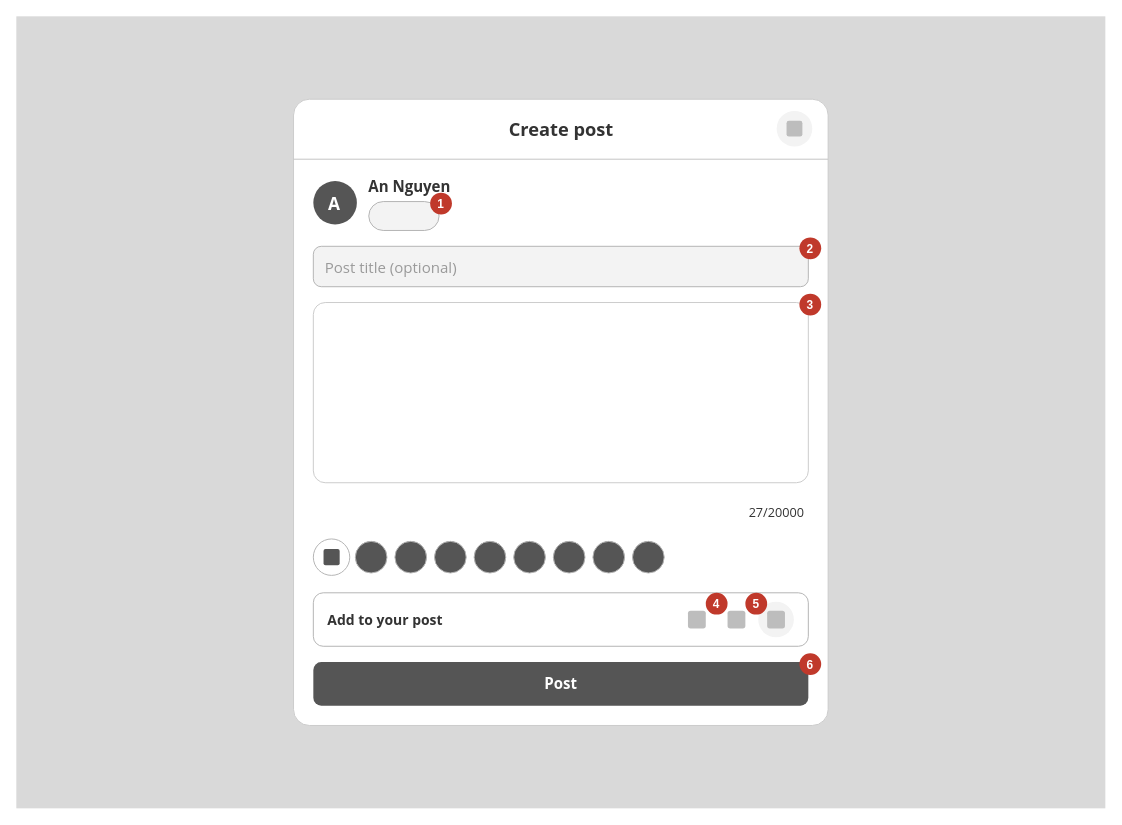
Image size: 1122x825. Some labels were removed from this diagram. The centre of each missing label's shape, as x and y in pixels:
Any tips for map questions?: pixel 560 392
General: pixel 403 215
